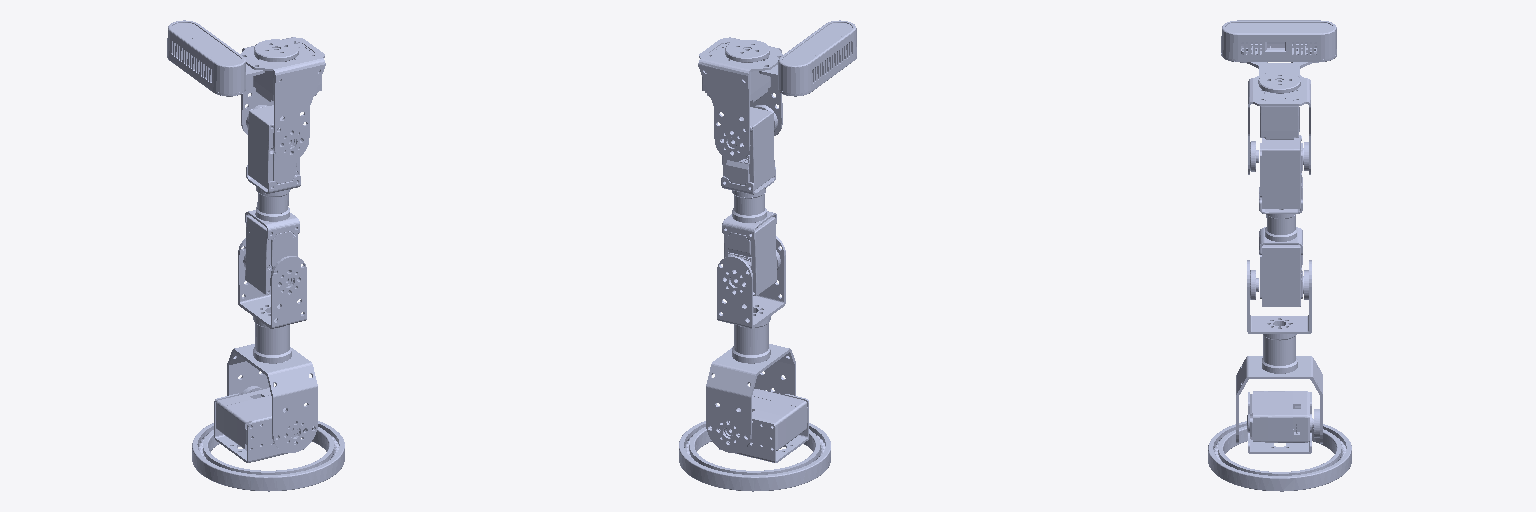
The robot description file, URDF, robot "44 001":
<?xml version="1.0" encoding="utf-8"?>
<!-- This URDF was automatically created by SolidWorks to URDF Exporter! Originally created by [author] ([email redacted]) 
     Commit Version: 1.6.0-4-g7f85cfe  Build Version: 1.6.7995.38578
     For more information, please see http://wiki.ros.org/sw_urdf_exporter -->
<robot
  name="44 001">
  <link
    name="base_link">
    <inertial>
      <origin
        xyz="0.0164042229877272 -2.04513182262022E-05 0.0219693028117164"
        rpy="0 0 0" />
      <mass
        value="0.184970476929002" />
      <inertia
        ixx="0.000205386861135714"
        ixy="1.35715925983726E-09"
        ixz="1.49085081540378E-06"
        iyy="0.000509205477303028"
        iyz="3.50510958146671E-11"
        izz="0.000701644432736427" />
    </inertial>
    <visual>
      <origin
        xyz="0 0 0"
        rpy="0 0 0" />
      <geometry>
        <mesh
          filename="package://44 001/meshes/base_link.STL" />
      </geometry>
      <material
        name="">
        <color
          rgba="0.792156862745098 0.819607843137255 0.933333333333333 1" />
      </material>
    </visual>
    <collision>
      <origin
        xyz="0 0 0"
        rpy="0 0 0" />
      <geometry>
        <mesh
          filename="package://44 001/meshes/base_link.STL" />
      </geometry>
    </collision>
  </link>
  <link
    name="link1">
    <inertial>
      <origin
        xyz="0.00183675236262922 -0.00123349114372519 0.00540684297500725"
        rpy="0 0 0" />
      <mass
        value="0.0495968437276972" />
      <inertia
        ixx="2.12676208903481E-05"
        ixy="2.80399953258454E-09"
        ixz="1.31538362697273E-07"
        iyy="2.36267712831251E-05"
        iyz="1.30795197761443E-07"
        izz="4.23603771205122E-05" />
    </inertial>
    <visual>
      <origin
        xyz="0 0 0"
        rpy="0 0 0" />
      <geometry>
        <mesh
          filename="package://44 001/meshes/link1.STL" />
      </geometry>
      <material
        name="">
        <color
          rgba="0.792156862745098 0.819607843137255 0.933333333333333 1" />
      </material>
    </visual>
    <collision>
      <origin
        xyz="0 0 0"
        rpy="0 0 0" />
      <geometry>
        <mesh
          filename="package://44 001/meshes/link1.STL" />
      </geometry>
    </collision>
  </link>
  <joint
    name="joint1"
    type="fixed">
    <origin
      xyz="0.066956 -8.1218E-05 0.071005"
      rpy="0.0069813 0 -0.00032872" />
    <parent
      link="base_link" />
    <child
      link="link1" />
    <axis
      xyz="0 0 0" />
    <limit
      lower="-2.09"
      upper="2.09"
      effort="1000"
      velocity="10" />
  </joint>
  <link
    name="link2">
    <inertial>
      <origin
        xyz="-8.1462418107997E-05 -0.0248959972917442 0.0530600779541552"
        rpy="0 0 0" />
      <mass
        value="0.0256562517599134" />
      <inertia
        ixx="1.11930874674043E-05"
        ixy="1.79466478804434E-09"
        ixz="4.31666137254955E-09"
        iyy="5.73918830225786E-06"
        iyz="1.80152801844581E-08"
        izz="8.3166482696753E-06" />
    </inertial>
    <visual>
      <origin
        xyz="0 0 0"
        rpy="0 0 0" />
      <geometry>
        <mesh
          filename="package://44 001/meshes/link2.STL" />
      </geometry>
      <material
        name="">
        <color
          rgba="0.792156862745098 0.819607843137255 0.933333333333333 1" />
      </material>
    </visual>
    <collision>
      <origin
        xyz="0 0 0"
        rpy="0 0 0" />
      <geometry>
        <mesh
          filename="package://44 001/meshes/link2.STL" />
      </geometry>
    </collision>
  </link>
  <joint
    name="joint2"
    type="revolute">
    <origin
      xyz="0.0091468 0.025662 0.015922"
      rpy="0 0 0" />
    <parent
      link="link1" />
    <child
      link="link2" />
    <axis
      xyz="-0.0010551 -0.99998 0.0068419" />
    <limit
      lower="-2.09"
      upper="2.09"
      effort="1000"
      velocity="10" />
  </joint>
  <link
    name="link3">
    <inertial>
      <origin
        xyz="1.11245115429898E-06 -0.0171534250124011 0.0473775325062425"
        rpy="0 0 0" />
      <mass
        value="0.0539832963097135" />
      <inertia
        ixx="9.16651733379202E-06"
        ixy="-1.43916290848519E-10"
        ixz="1.26376692708086E-09"
        iyy="1.02762907567637E-05"
        iyz="-1.51724247205094E-09"
        izz="3.54425807511496E-06" />
    </inertial>
    <visual>
      <origin
        xyz="0 0 0"
        rpy="0 0 0" />
      <geometry>
        <mesh
          filename="package://44 001/meshes/link3.STL" />
      </geometry>
      <material
        name="">
        <color
          rgba="0.792156862745098 0.819607843137255 0.933333333333333 1" />
      </material>
    </visual>
    <collision>
      <origin
        xyz="0 0 0"
        rpy="0 0 0" />
      <geometry>
        <mesh
          filename="package://44 001/meshes/link3.STL" />
      </geometry>
    </collision>
  </link>
  <joint
    name="joint3"
    type="revolute">
    <origin
      xyz="-0.00022615 -0.0058452 0.10056"
      rpy="-0.0067561 0.021887 0.0001759" />
    <parent
      link="link2" />
    <child
      link="link3" />
    <axis
      xyz="0.000275 -1 -0.00032517" />
    <limit
      lower="-2.09"
      upper="2.09"
      effort="1000"
      velocity="10" />
  </joint>
  <link
    name="link4">
    <inertial>
      <origin
        xyz="0.00395752511921098 -0.0195117566665206 0.0288166015169327"
        rpy="0 0 0" />
      <mass
        value="0.0147032550628154" />
      <inertia
        ixx="5.01387351753199E-06"
        ixy="-6.96359548521019E-09"
        ixz="-1.62523606651003E-07"
        iyy="3.89035590956844E-06"
        iyz="4.81048010932894E-09"
        izz="4.02580541552986E-06" />
    </inertial>
    <visual>
      <origin
        xyz="0 0 0"
        rpy="0 0 0" />
      <geometry>
        <mesh
          filename="package://44 001/meshes/link4.STL" />
      </geometry>
      <material
        name="">
        <color
          rgba="0.792156862745098 0.819607843137255 0.933333333333333 1" />
      </material>
    </visual>
    <collision>
      <origin
        xyz="0 0 0"
        rpy="0 0 0" />
      <geometry>
        <mesh
          filename="package://44 001/meshes/link4.STL" />
      </geometry>
    </collision>
  </link>
  <joint
    name="joint4"
    type="revolute">
    <origin
      xyz="-1.6458E-05 1.6766E-05 0.094708"
      rpy="-0.00022696 -0.0072612 0" />
    <parent
      link="link3" />
    <child
      link="link4" />
    <axis
      xyz="0.00040702 -1 -0.000213" />
    <limit
      lower="-2.09"
      upper="2.09"
      effort="1000"
      velocity="10" />
  </joint>
  <link
    name="link5">
    <inertial>
      <origin
        xyz="-0.00012485429546084 5.63304909438861E-06 -0.0018618100016024"
        rpy="0 0 0" />
      <mass
        value="0.00208534513323067" />
      <inertia
        ixx="1.04715114419907E-07"
        ixy="-5.69033915905237E-12"
        ixz="7.6657305072005E-10"
        iyy="1.07236443877487E-07"
        iyz="-3.02203220598807E-10"
        izz="2.06733595380769E-07" />
    </inertial>
    <visual>
      <origin
        xyz="0 0 0"
        rpy="0 0 0" />
      <geometry>
        <mesh
          filename="package://44 001/meshes/link5.STL" />
      </geometry>
      <material
        name="">
        <color
          rgba="0.792156862745098 0.819607843137255 0.933333333333333 1" />
      </material>
    </visual>
    <collision>
      <origin
        xyz="0 0 0"
        rpy="0 0 0" />
      <geometry>
        <mesh
          filename="package://44 001/meshes/link5.STL" />
      </geometry>
    </collision>
  </link>
  <joint
    name="joint5"
    type="revolute">
    <origin
      xyz="2.3581E-05 -0.0192 0.056107"
      rpy="-0.003038 -0.011203 0" />
    <parent
      link="link4" />
    <child
      link="link5" />
    <axis
      xyz="-0.012028 0.0031146 -0.99992" />
    <limit
      lower="-2.09"
      upper="2.09"
      effort="1000"
      velocity="10" />
  </joint>
  <link
    name="gripper_link">
    <inertial>
      <origin
        xyz="0.0147984315007538 -0.00400854434455595 0.0255552768659065"
        rpy="0 0 0" />
      <mass
        value="0.0190346039063499" />
      <inertia
        ixx="4.15920672580282E-06"
        ixy="-5.40612702607483E-08"
        ixz="-7.15151911629369E-09"
        iyy="1.64739810692489E-06"
        iyz="2.30300018013063E-08"
        izz="3.33800015237044E-06" />
    </inertial>
    <visual>
      <origin
        xyz="0 0 0"
        rpy="0 0 0" />
      <geometry>
        <mesh
          filename="package://44 001/meshes/gripper_link.STL" />
      </geometry>
      <material
        name="">
        <color
          rgba="0.792156862745098 0.819607843137255 0.933333333333333 1" />
      </material>
    </visual>
    <collision>
      <origin
        xyz="0 0 0"
        rpy="0 0 0" />
      <geometry>
        <mesh
          filename="package://44 001/meshes/gripper_link.STL" />
      </geometry>
    </collision>
  </link>
  <joint
    name="gripper_joint"
    type="fixed">
    <origin
      xyz="0 0 0"
      rpy="0 0 0.00845524658197288" />
    <parent
      link="link5" />
    <child
      link="gripper_link" />
    <axis
      xyz="0 0 0" />
  </joint>
  <link
    name="r_link">
    <inertial>
      <origin
        xyz="0.00151349108337359 -0.00360188652542189 0.00513439643359748"
        rpy="0 0 0" />
      <mass
        value="0.00206270178057599" />
      <inertia
        ixx="3.97240500931847E-07"
        ixy="-5.53374958180352E-10"
        ixz="-7.52246214565243E-10"
        iyy="2.11560371492508E-07"
        iyz="1.22268872605044E-07"
        izz="1.88796990387218E-07" />
    </inertial>
    <visual>
      <origin
        xyz="0 0 0"
        rpy="0 0 0" />
      <geometry>
        <mesh
          filename="package://44 001/meshes/r_link.STL" />
      </geometry>
      <material
        name="">
        <color
          rgba="0.792156862745098 0.819607843137255 0.933333333333333 1" />
      </material>
    </visual>
    <collision>
      <origin
        xyz="0 0 0"
        rpy="0 0 0" />
      <geometry>
        <mesh
          filename="package://44 001/meshes/r_link.STL" />
      </geometry>
    </collision>
  </link>
  <joint
    name="r_joint"
    type="fixed">
    <origin
      xyz="-0.0073858 -0.013938 0.027086"
      rpy="0 0 0" />
    <parent
      link="gripper_link" />
    <child
      link="r_link" />
    <axis
      xyz="0 0 0" />
    <limit
      lower="-1.57"
      upper="1.57"
      effort="1000"
      velocity="10" />
  </joint>
  <link
    name="r_in_link">
    <inertial>
      <origin
        xyz="0.00601563494943115 -0.00933993564708589 0.011082809420621"
        rpy="0 0 0" />
      <mass
        value="0.00077695860248669" />
      <inertia
        ixx="9.87589097381446E-08"
        ixy="5.85143112664886E-11"
        ixz="-9.0996227761815E-11"
        iyy="5.85249182461494E-08"
        iyz="4.69360346113686E-08"
        izz="4.13999916303825E-08" />
    </inertial>
    <visual>
      <origin
        xyz="0 0 0"
        rpy="0 0 0" />
      <geometry>
        <mesh
          filename="package://44 001/meshes/r_in_link.STL" />
      </geometry>
      <material
        name="">
        <color
          rgba="0.792156862745098 0.819607843137255 0.933333333333333 1" />
      </material>
    </visual>
    <collision>
      <origin
        xyz="0 0 0"
        rpy="0 0 0" />
      <geometry>
        <mesh
          filename="package://44 001/meshes/r_in_link.STL" />
      </geometry>
    </collision>
  </link>
  <joint
    name="r_in_joint"
    type="revolute">
    <origin
      xyz="-0.0071417 -0.00494 0.046059"
      rpy="0 0 0" />
    <parent
      link="gripper_link" />
    <child
      link="r_in_link" />
    <axis
      xyz="0.99992 -0.0087259 -0.0087265" />
    <limit
      lower="-1.57"
      upper="1.57"
      effort="1000"
      velocity="0" />
  </joint>
  <link
    name="r_out_link">
    <inertial>
      <origin
        xyz="0.0060003337346707 -0.00121863872937479 0.0106852698328805"
        rpy="0 0 0" />
      <mass
        value="0.0041181946218036" />
      <inertia
        ixx="8.85056123387604E-07"
        ixy="-5.94244785883652E-13"
        ixz="-1.15743915199645E-12"
        iyy="8.30231467283776E-07"
        iyz="-1.5622370700222E-07"
        izz="7.63083333802096E-08" />
    </inertial>
    <visual>
      <origin
        xyz="0 0 0"
        rpy="0 0 0" />
      <geometry>
        <mesh
          filename="package://44 001/meshes/r_out_link.STL" />
      </geometry>
      <material
        name="">
        <color
          rgba="0.792156862745098 0.819607843137255 0.933333333333333 1" />
      </material>
    </visual>
    <collision>
      <origin
        xyz="0 0 0"
        rpy="0 0 0" />
      <geometry>
        <mesh
          filename="package://44 001/meshes/r_out_link.STL" />
      </geometry>
    </collision>
  </link>
  <joint
    name="r_out_joint"
    type="fixed">
    <origin
      xyz="3.226E-05 -0.018575 0.02227"
      rpy="0 0.0087266 -0.0087263" />
    <parent
      link="r_in_link" />
    <child
      link="r_out_link" />
    <axis
      xyz="0 0 0" />
    <limit
      lower="-1.57"
      upper="1.57"
      effort="1000"
      velocity="10" />
  </joint>
  <link
    name="l_link">
    <inertial>
      <origin
        xyz="0.00156962391549198 0.00288587631955439 0.00507725070159087"
        rpy="0 0 0" />
      <mass
        value="0.00219226447026527" />
      <inertia
        ixx="4.04388120358695E-07"
        ixy="-2.47643319755119E-09"
        ixz="-3.1267169184726E-09"
        iyy="2.41259206514038E-07"
        iyz="-1.2053451759866E-07"
        izz="1.66515068295737E-07" />
    </inertial>
    <visual>
      <origin
        xyz="0 0 0"
        rpy="0 0 0" />
      <geometry>
        <mesh
          filename="package://44 001/meshes/l_link.STL" />
      </geometry>
      <material
        name="">
        <color
          rgba="0.792156862745098 0.819607843137255 0.933333333333333 1" />
      </material>
    </visual>
    <collision>
      <origin
        xyz="0 0 0"
        rpy="0 0 0" />
      <geometry>
        <mesh
          filename="package://44 001/meshes/l_link.STL" />
      </geometry>
    </collision>
  </link>
  <joint
    name="l_joint"
    type="revolute">
    <origin
      xyz="-0.0071414 0.014061 0.027086"
      rpy="0 0 0" />
    <parent
      link="gripper_link" />
    <child
      link="l_link" />
    <axis
      xyz="0.99992 -0.0087259 -0.0087265" />
    <limit
      lower="-1.57"
      upper="1.57"
      effort="1000"
      velocity="10" />
  </joint>
  <link
    name="l_in_link">
    <inertial>
      <origin
        xyz="0.0061752410846556 0.00809690353925134 0.0119397085142572"
        rpy="0 0 0" />
      <mass
        value="0.000776951894816137" />
      <inertia
        ixx="9.87445136158536E-08"
        ixy="-6.59516594011411E-10"
        ixz="-9.66052559536099E-10"
        iyy="6.75329965877315E-08"
        iyz="-4.43521939642775E-08"
        izz="3.24053019894081E-08" />
    </inertial>
    <visual>
      <origin
        xyz="0 0 0"
        rpy="0 0 0" />
      <geometry>
        <mesh
          filename="package://44 001/meshes/l_in_link.STL" />
      </geometry>
      <material
        name="">
        <color
          rgba="0.792156862745098 0.819607843137255 0.933333333333333 1" />
      </material>
    </visual>
    <collision>
      <origin
        xyz="0 0 0"
        rpy="0 0 0" />
      <geometry>
        <mesh
          filename="package://44 001/meshes/l_in_link.STL" />
      </geometry>
    </collision>
  </link>
  <joint
    name="l_in_joint"
    type="revolute">
    <origin
      xyz="-0.0070544 0.0050596 0.046059"
      rpy="0 0 0" />
    <parent
      link="gripper_link" />
    <child
      link="l_in_link" />
    <axis
      xyz="0.99992 -0.0087259 -0.0087265" />
    <limit
      lower="-1.57"
      upper="1.57"
      effort="1000"
      velocity="10" />
  </joint>
  <link
    name="l_out_link">
    <inertial>
      <origin
        xyz="0.00610369293659842 0.00119205772300365 0.0106068942358846"
        rpy="0 0 0" />
      <mass
        value="0.00411750740674858" />
      <inertia
        ixx="8.84970816479398E-07"
        ixy="8.91745370388249E-10"
        ixz="-5.70623861070727E-09"
        iyy="8.30174824061324E-07"
        iyz="1.56252598591375E-07"
        izz="7.63529066462606E-08" />
    </inertial>
    <visual>
      <origin
        xyz="0 0 0"
        rpy="0 0 0" />
      <geometry>
        <mesh
          filename="package://44 001/meshes/l_out_link.STL" />
      </geometry>
      <material
        name="">
        <color
          rgba="0.792156862745098 0.819607843137255 0.933333333333333 1" />
      </material>
    </visual>
    <collision>
      <origin
        xyz="0 0 0"
        rpy="0 0 0" />
      <geometry>
        <mesh
          filename="package://44 001/meshes/l_out_link.STL" />
      </geometry>
    </collision>
  </link>
  <joint
    name="l_out_link"
    type="revolute">
    <origin
      xyz="0.00035154 0.016298 0.023984"
      rpy="0 0 0" />
    <parent
      link="l_in_link" />
    <child
      link="l_out_link" />
    <axis
      xyz="0.99992 -0.0087259 -0.0087265" />
    <limit
      lower="-1.57"
      upper="1.57"
      effort="1000"
      velocity="10" />
  </joint>
  <link
    name="camera_connet_link">
    <inertial>
      <origin
        xyz="0.0118021523166905 -0.000540782293006269 0.00995705328357074"
        rpy="0 0 0" />
      <mass
        value="0.00963635510803445" />
      <inertia
        ixx="5.98204756678922E-06"
        ixy="6.68535029808548E-09"
        ixz="6.84156124804658E-10"
        iyy="6.63705685577627E-07"
        iyz="6.54661287243733E-10"
        izz="5.67360868792555E-06" />
    </inertial>
    <visual>
      <origin
        xyz="0 0 0"
        rpy="0 0 0" />
      <geometry>
        <mesh
          filename="package://44 001/meshes/camera_connet_link.STL" />
      </geometry>
      <material
        name="">
        <color
          rgba="0.792156862745098 0.819607843137255 0.933333333333333 1" />
      </material>
    </visual>
    <collision>
      <origin
        xyz="0 0 0"
        rpy="0 0 0" />
      <geometry>
        <mesh
          filename="package://44 001/meshes/camera_connet_link.STL" />
      </geometry>
    </collision>
  </link>
  <joint
    name="camera_connet_joint"
    type="fixed">
    <origin
      xyz="-0.040352 -0.019122 0.048005"
      rpy="0 -1.5614 0" />
    <parent
      link="link4" />
    <child
      link="camera_connet_link" />
    <axis
      xyz="0 0 0" />
  </joint>
</robot>

--- Render facts (derived) ---
Views: 3 orthographic renders of the robot side by side, from view 1: azimuth 30°, elevation 25°; view 2: azimuth 150°, elevation 25°; view 3: azimuth 270°, elevation 25°.
Model 44 001 with 14 links and 13 joints (8 revolute, 5 fixed), rooted at base_link, posed every joint at zero.
Visible links, largest first — view 1: link2, link1, link3, link4, camera_connet_link, link5; view 2: link2, link1, link3, link4, camera_connet_link, link5; view 3: link1, link3, camera_connet_link, link2, link4, link5.
Boxes of the visible links, x1,y1,x2,y2 form: link2: (227,238,317,452); link1: (192,388,344,491); link3: (245,105,300,294); link4: (241,37,325,161); camera_connet_link: (167,20,264,96); link5: (254,39,298,61); link2: (706,236,795,452); link1: (679,389,830,491); link3: (721,107,776,295); link4: (698,37,782,161); camera_connet_link: (759,20,856,96); link5: (725,40,769,62); link1: (1208,391,1351,491); link3: (1259,135,1303,306); camera_connet_link: (1221,20,1336,74); link2: (1236,260,1322,443); link4: (1248,72,1310,174); link5: (1258,71,1300,93).
Bounding box of the posed robot: 0.1032 × 0.095 × 0.2959 m (x, y, z).
Meshes: 14 distinct files referenced, 6 mesh visuals loaded (6 binary STL); not drawn: 8 (reference not matched to a file when rendering).